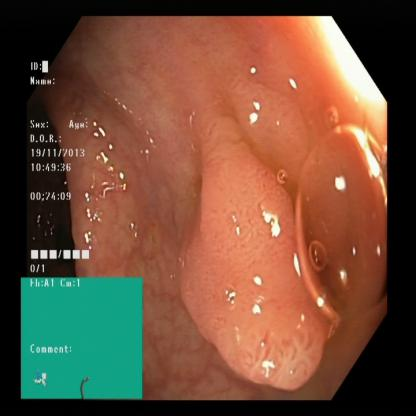Labels: (20, 276, 144, 402), (29, 57, 100, 276)
Polyps: (197, 121, 321, 384)
